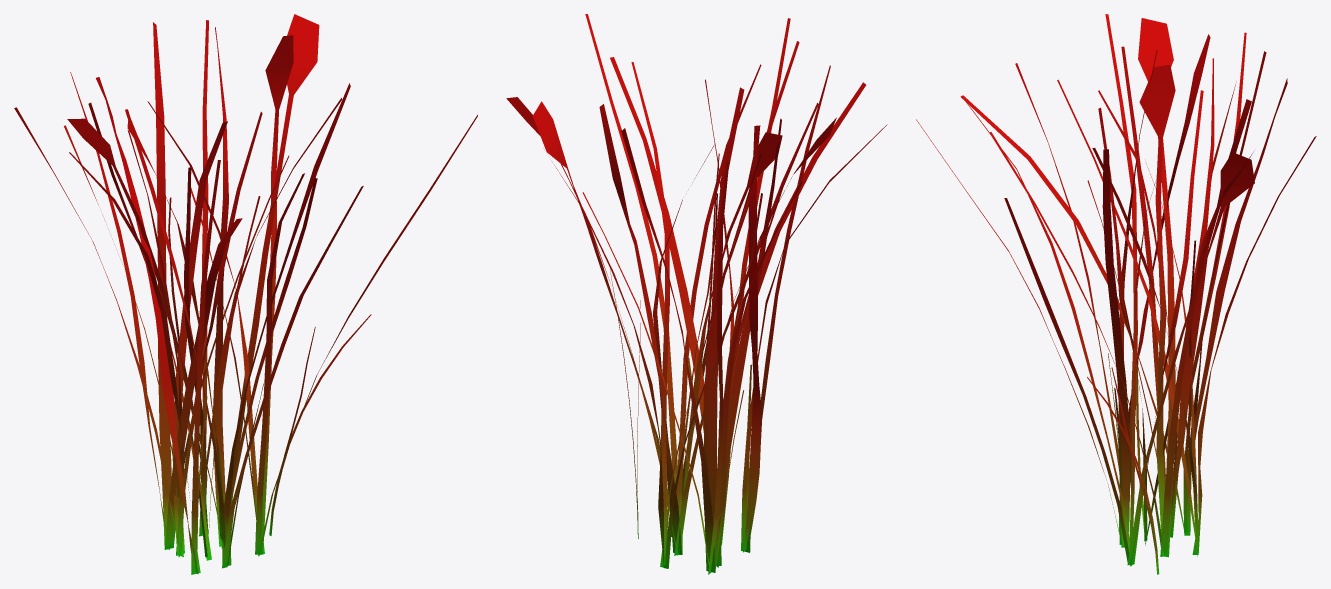
File: Softstem Bulrush_LOD2_Var4_uehjcafia.fbx
The picture shows the model from 3 angles, left to right: view 1: azimuth 30°, elevation 25°; view 2: azimuth 150°, elevation 25°; view 3: azimuth 270°, elevation 25°; orthographic projection.
Visible parts, largest first — view 1: _8989_Var4_LOD2; view 2: _8989_Var4_LOD2; view 3: _8989_Var4_LOD2.
Part boxes in pixels (box(x1,y1,x2,y2)): _8989_Var4_LOD2: box(14, 14, 477, 574); _8989_Var4_LOD2: box(506, 14, 887, 574); _8989_Var4_LOD2: box(916, 14, 1316, 574).
Size of the model in its own units: 98.56 by 127 by 97.03.
